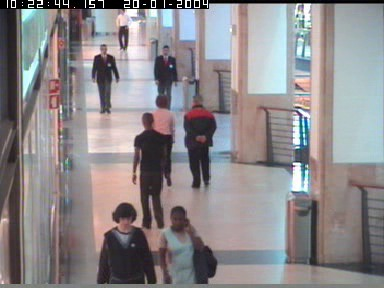person: (99, 202, 157, 283), (156, 206, 216, 284), (132, 113, 172, 229), (183, 95, 216, 186), (151, 95, 174, 186), (93, 43, 120, 112), (153, 43, 177, 110), (115, 9, 133, 51)
